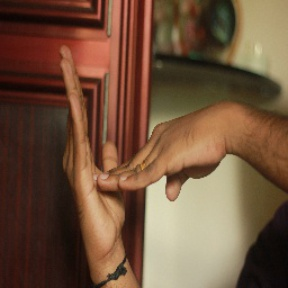Z: (45, 40, 232, 263)
